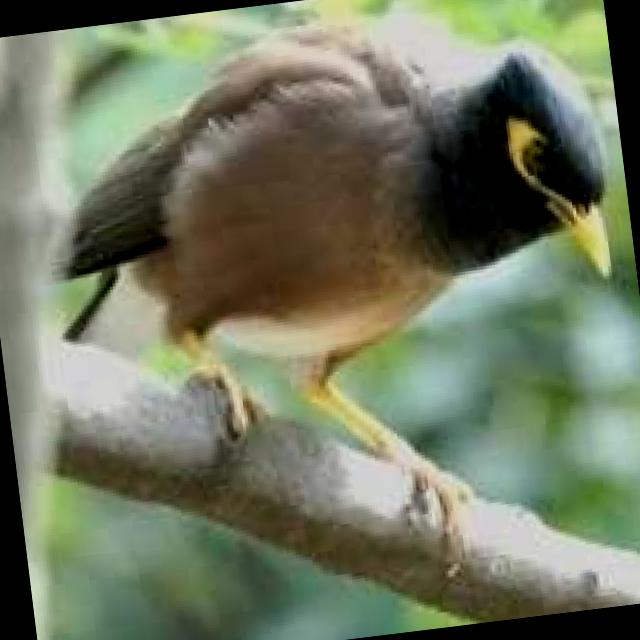bird: (20, 0, 640, 575)
